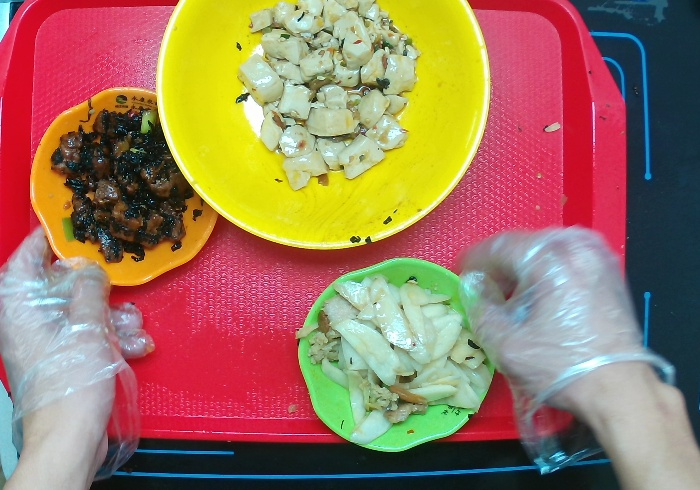YKMZ-Huang_Se_Tang_Wan: (156, 1, 493, 253)
YKMZ-Ju_Se_Ao_Bian_Wan: (26, 88, 223, 288)
YKMZ-Lv_Se_Ao_Bian_Wan: (296, 253, 499, 457)
